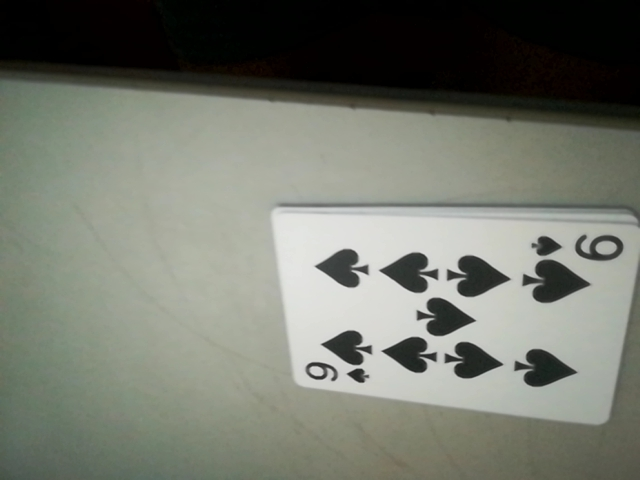ht 9: (529, 228, 632, 265), (298, 357, 379, 392)
